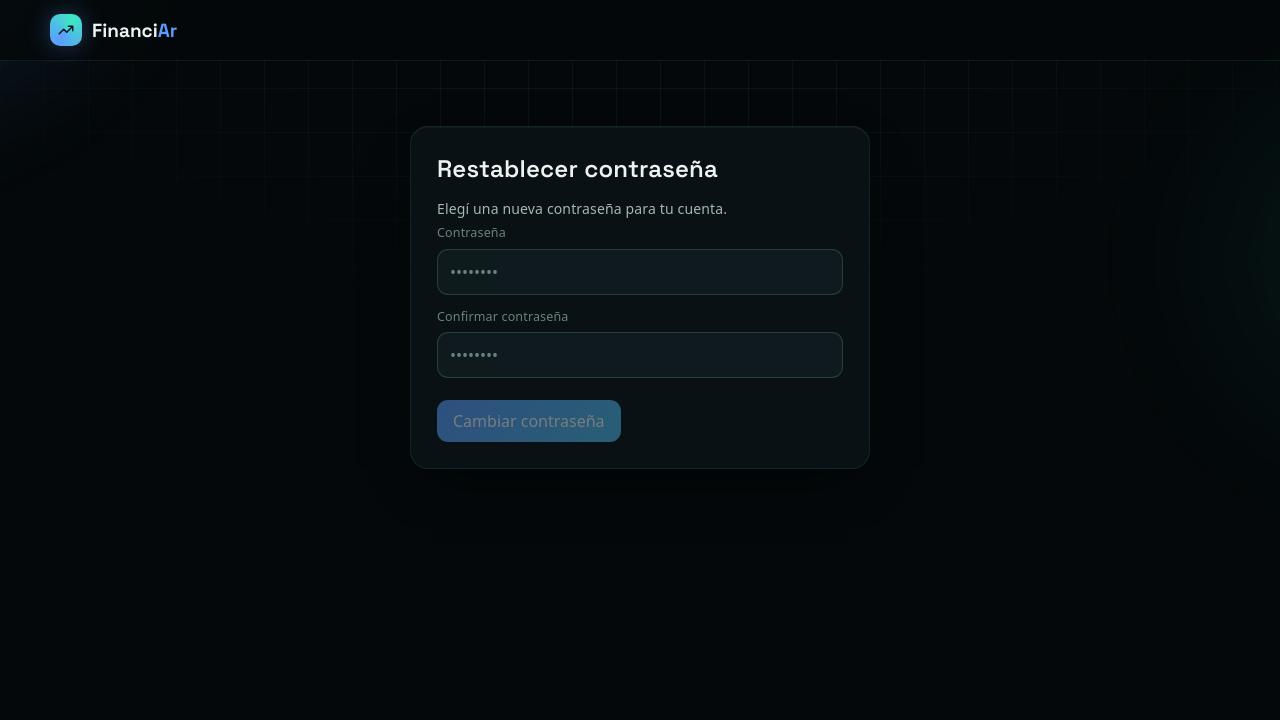
Test: restore page shows a generic error for unknown failures
In the 1st password field with placeholder "••••••••": (640, 272) [437,248,843,294], type "Strong123!"
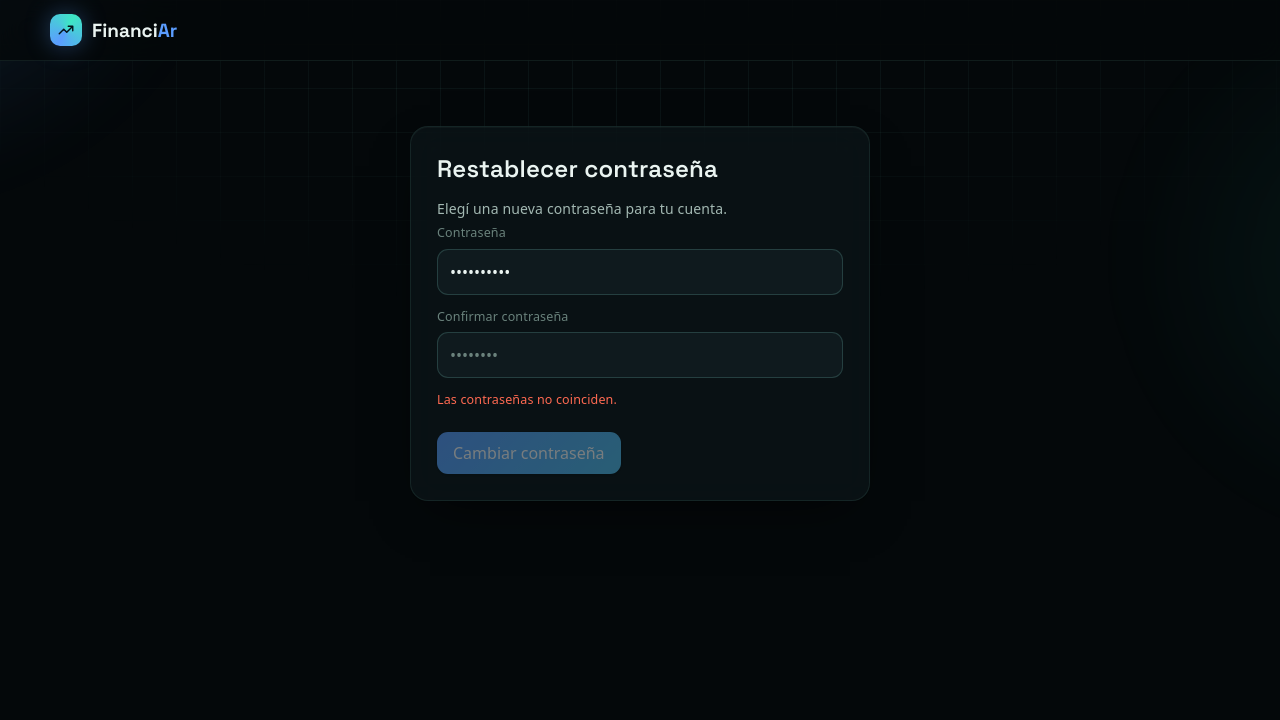
In the password field with placeholder "••••••••": (640, 355) [437,332,843,378], type "Strong123!"
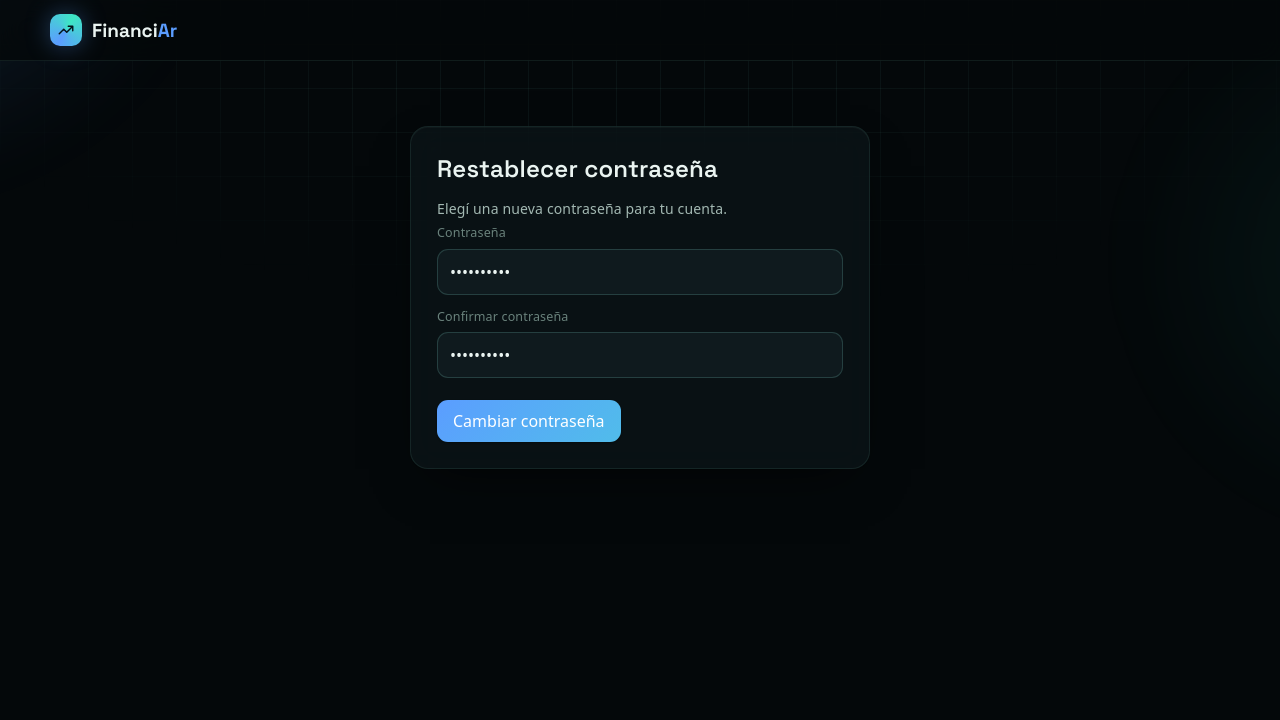
Click the button "Cambiar contraseña": (529, 421) [437,400,621,442]
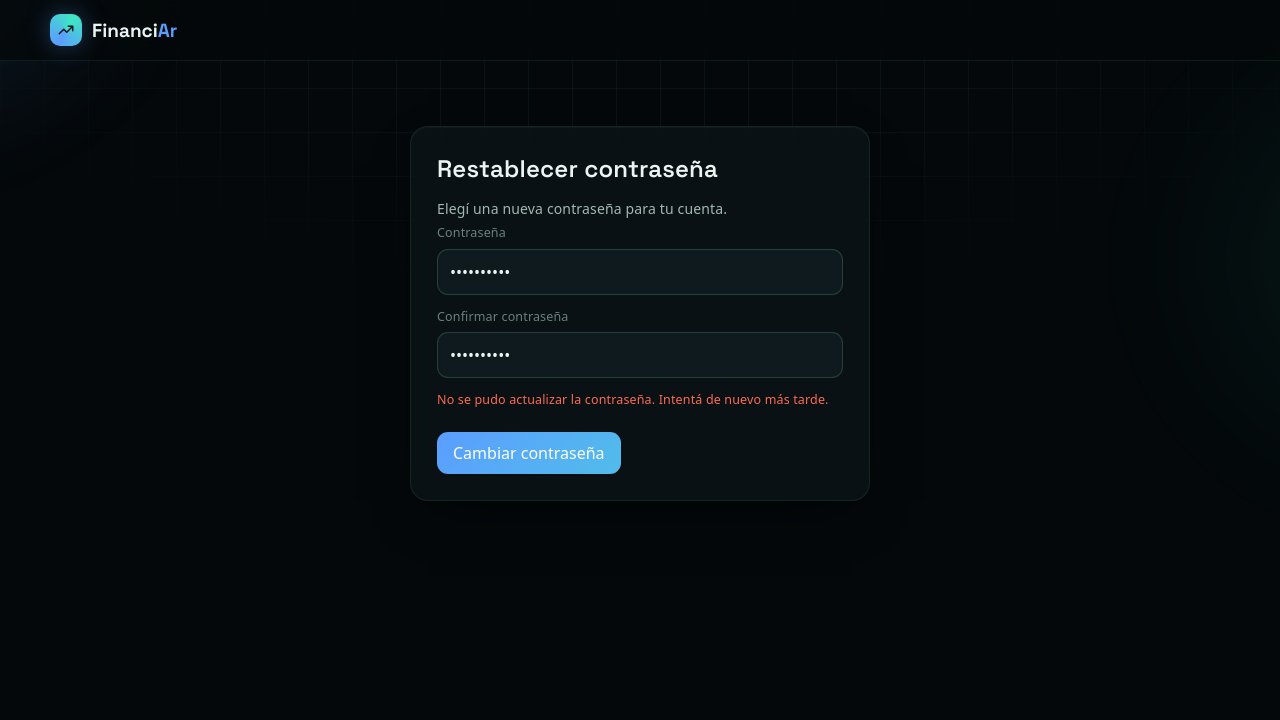
Check: the text "No se pudo actualizar la contraseña" is shown, box [437,391,829,408]
